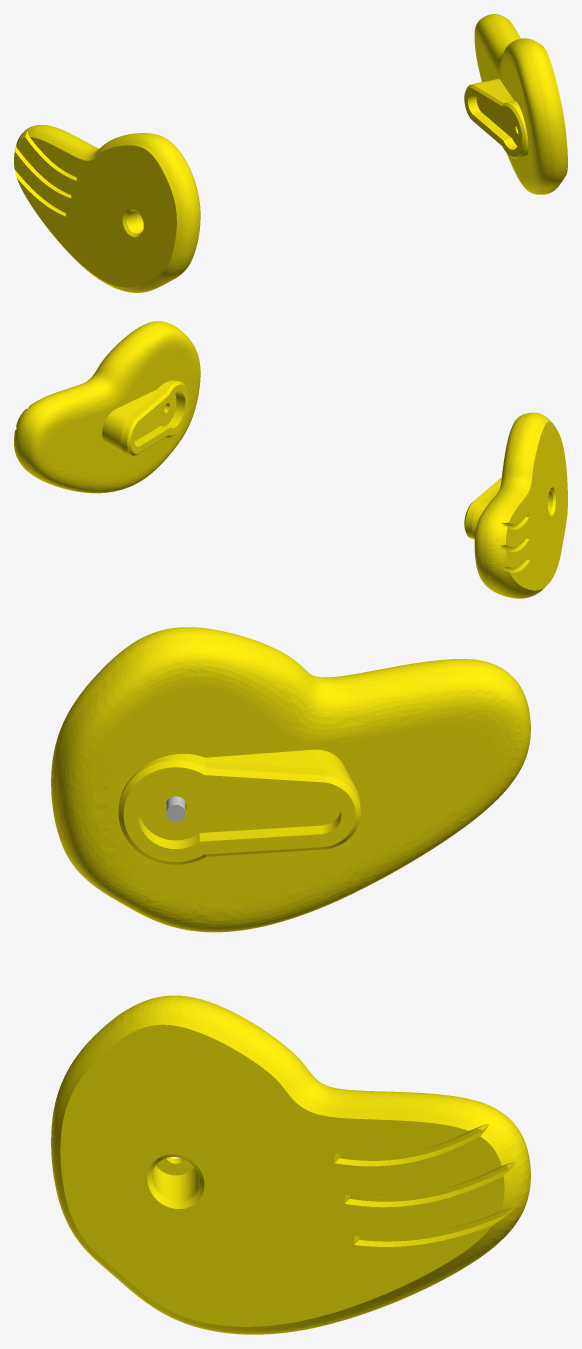
Rendered from wings.glb.
The picture shows the model from 3 angles, top to bottom: view 1: azimuth 30°, elevation 25°; view 2: azimuth 150°, elevation 25°; view 3: azimuth 270°, elevation 25°; orthographic projection. The views are drawn at different scales.
Parts seen in each view (by area): view 1: Node1; view 2: Node1; view 3: Node1.
Part boxes in pixels (x1,y1,x2,y2): Node1: [14, 14, 567, 292]; Node1: [14, 321, 567, 598]; Node1: [51, 627, 530, 1334].
Size of the model in its own units: 111 by 33.65 by 46.79.
